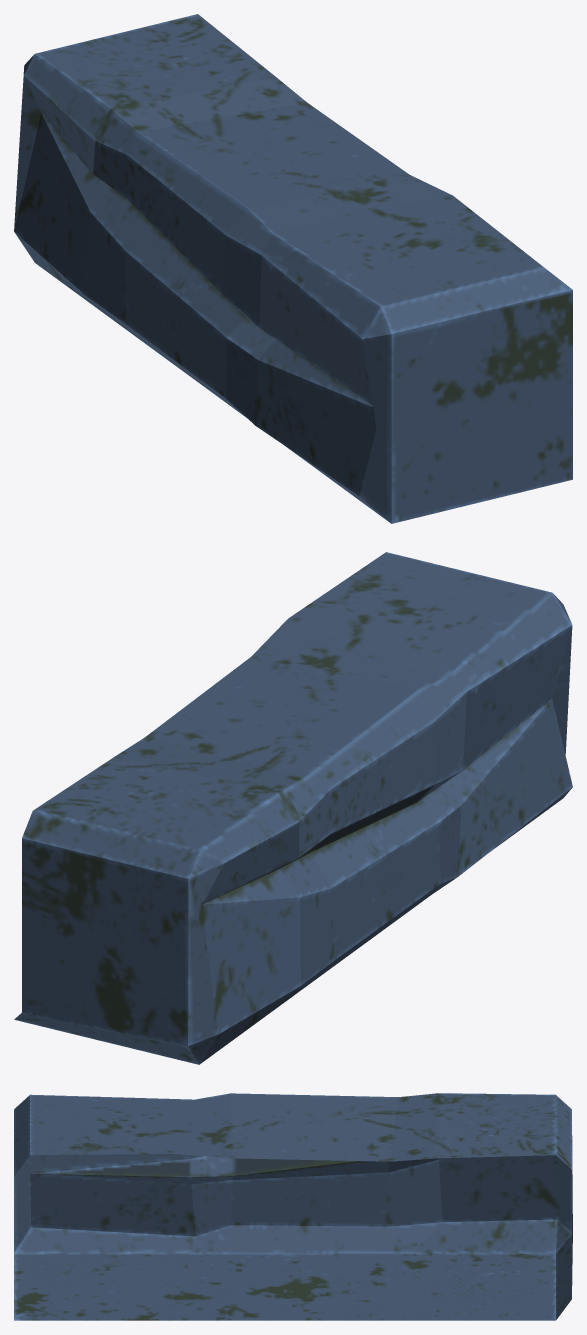
The model's file is Cegla_6.fbx.
3 renders of one model, top to bottom at view 1: azimuth 30°, elevation 25°; view 2: azimuth 150°, elevation 25°; view 3: azimuth 270°, elevation 25°, orthographic. The views are drawn at different scales.
Visible parts, largest first — view 1: Cegla_6; view 2: Cegla_6; view 3: Cegla_6.
Boxes of the visible parts, x1,y1,x2,y2 form: Cegla_6: (14, 14, 572, 523); Cegla_6: (14, 552, 572, 1064); Cegla_6: (14, 1093, 572, 1320).
Bounding box in the file's own units: 207 × 203 × 638.
